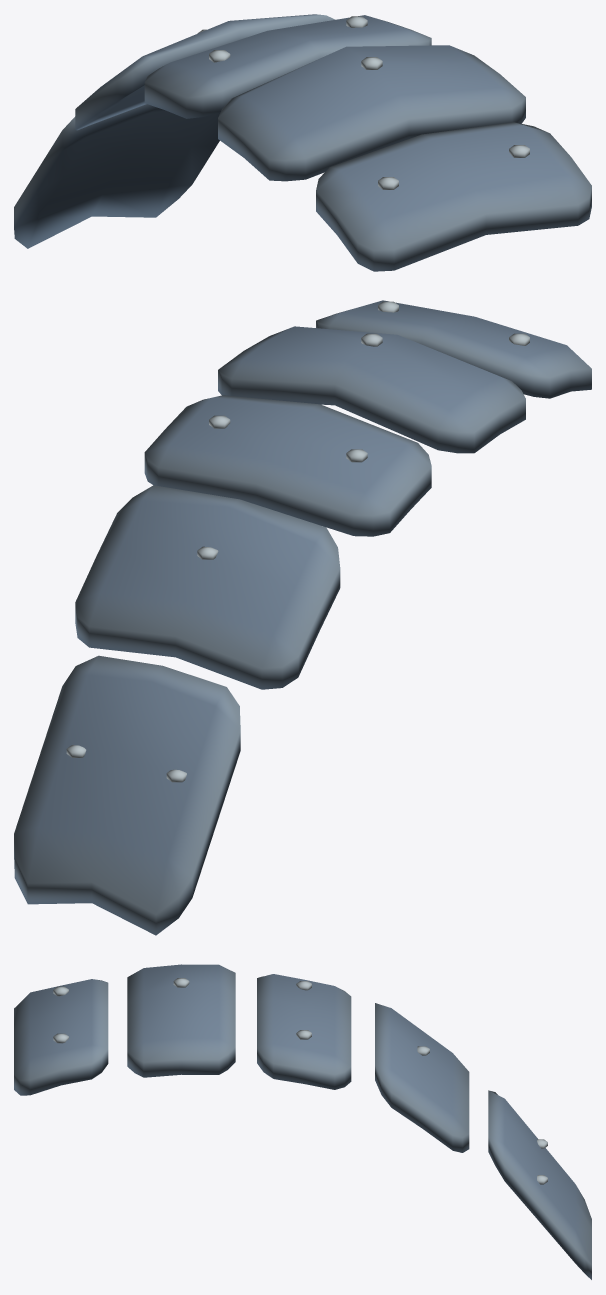
The model's file is ironback_plates.glb.
3 renders of one model, top to bottom at view 1: azimuth 30°, elevation 25°; view 2: azimuth 150°, elevation 25°; view 3: azimuth 270°, elevation 25°, orthographic. The views are drawn at different scales.
Visible parts, largest first — view 1: Body; view 2: Body; view 3: Body.
Part boxes in pixels (x1,y1,x2,y2): Body: (14,14,591,271); Body: (14,300,591,935); Body: (14,964,591,1279).
Bounding box in the file's own units: 0.46 × 0.6513 × 1.22.
